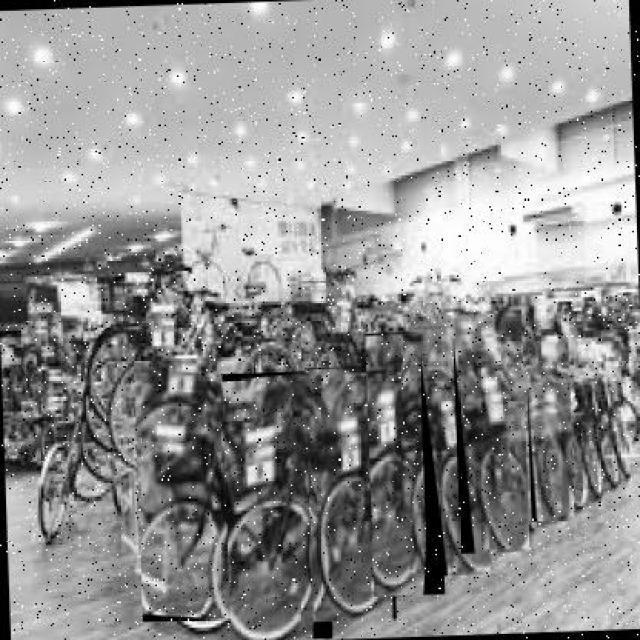bicycle: (133, 357, 265, 625), (221, 372, 335, 640), (304, 366, 398, 624), (365, 333, 447, 599), (452, 311, 530, 555), (418, 326, 492, 580), (525, 340, 576, 524)
